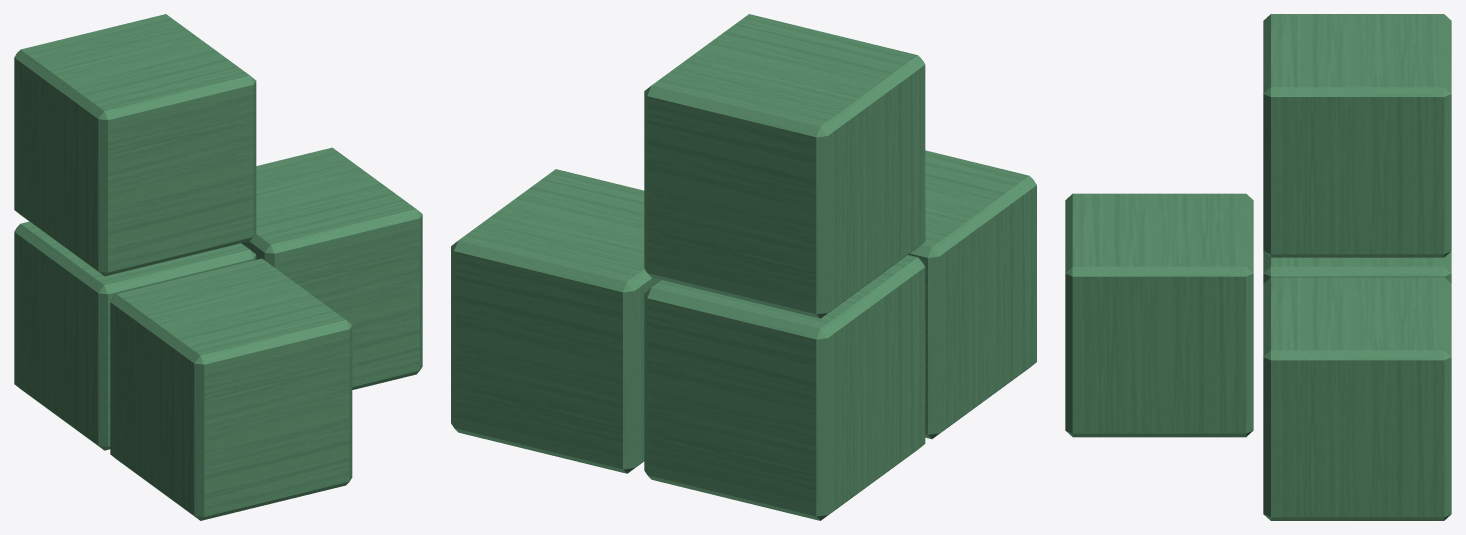
The model's file is piece_A.glb.
3 views of the same model, side by side, from view 1: azimuth 30°, elevation 25°; view 2: azimuth 150°, elevation 25°; view 3: azimuth 270°, elevation 25° (orthographic). The views are drawn at different scales.
Visible parts, largest first — view 1: piece_A; view 2: piece_A; view 3: piece_A.
Part boxes in pixels (box(x1,y1,x2,y2)): piece_A: box(14, 14, 422, 520); piece_A: box(451, 14, 1036, 520); piece_A: box(1065, 14, 1451, 520).
Size of the model in its own units: 0.078 by 0.078 by 0.078.
1 material, 1 textured.
